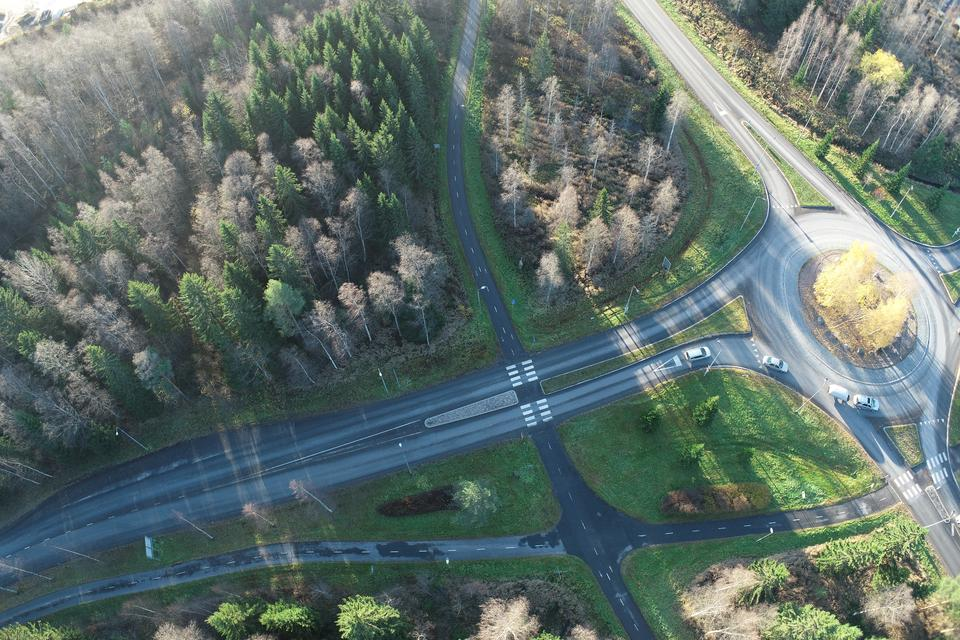intersection: (485, 331, 592, 463), (850, 439, 960, 531)
roundabout: (701, 168, 960, 431)
